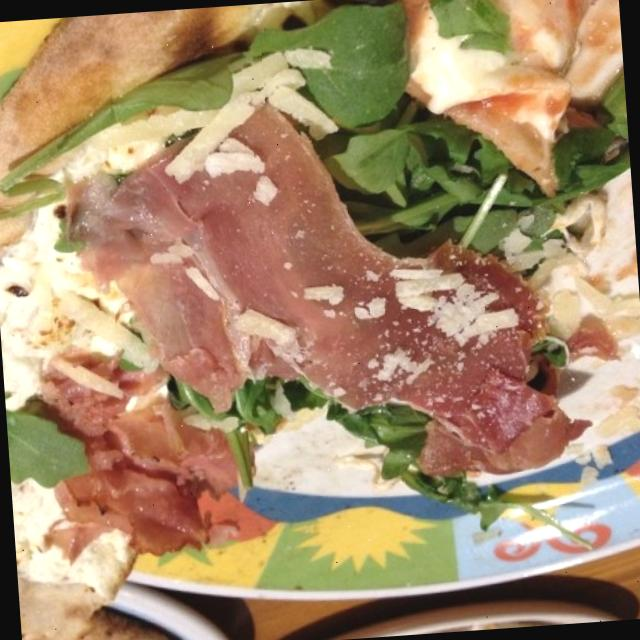basil: (325, 104, 547, 274), (260, 3, 420, 133), (0, 103, 126, 215), (109, 46, 266, 132), (402, 454, 532, 538), (5, 396, 108, 501), (333, 390, 438, 486), (198, 370, 323, 430), (426, 0, 515, 57)
cheese: (0, 221, 90, 401), (12, 501, 110, 596), (405, 29, 508, 108)
pizza: (0, 0, 620, 640)
